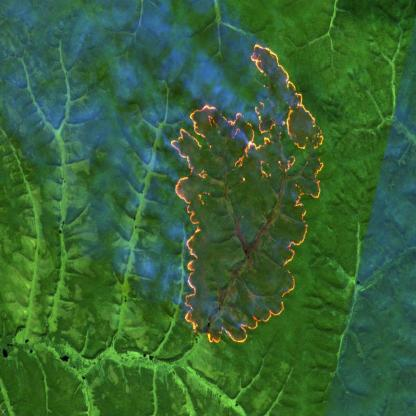fire: (166, 32, 327, 351)
